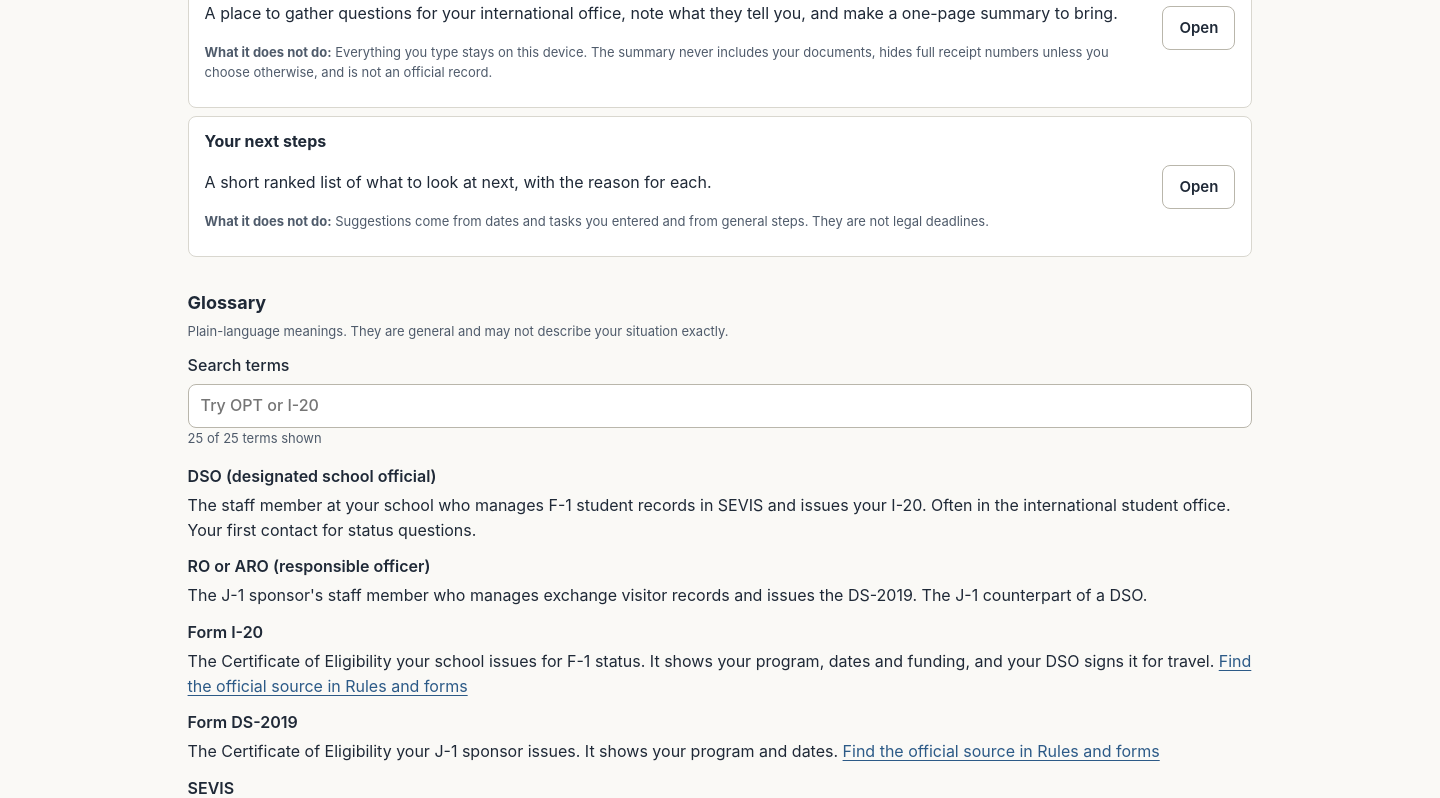
Test case: HelpPage › explains storage, lists terms and filters them
The image size is (1440, 798).
(page scrolled)
In the search field labelled "Search terms": (720,406) [188,384,1252,428], type "work authorization"
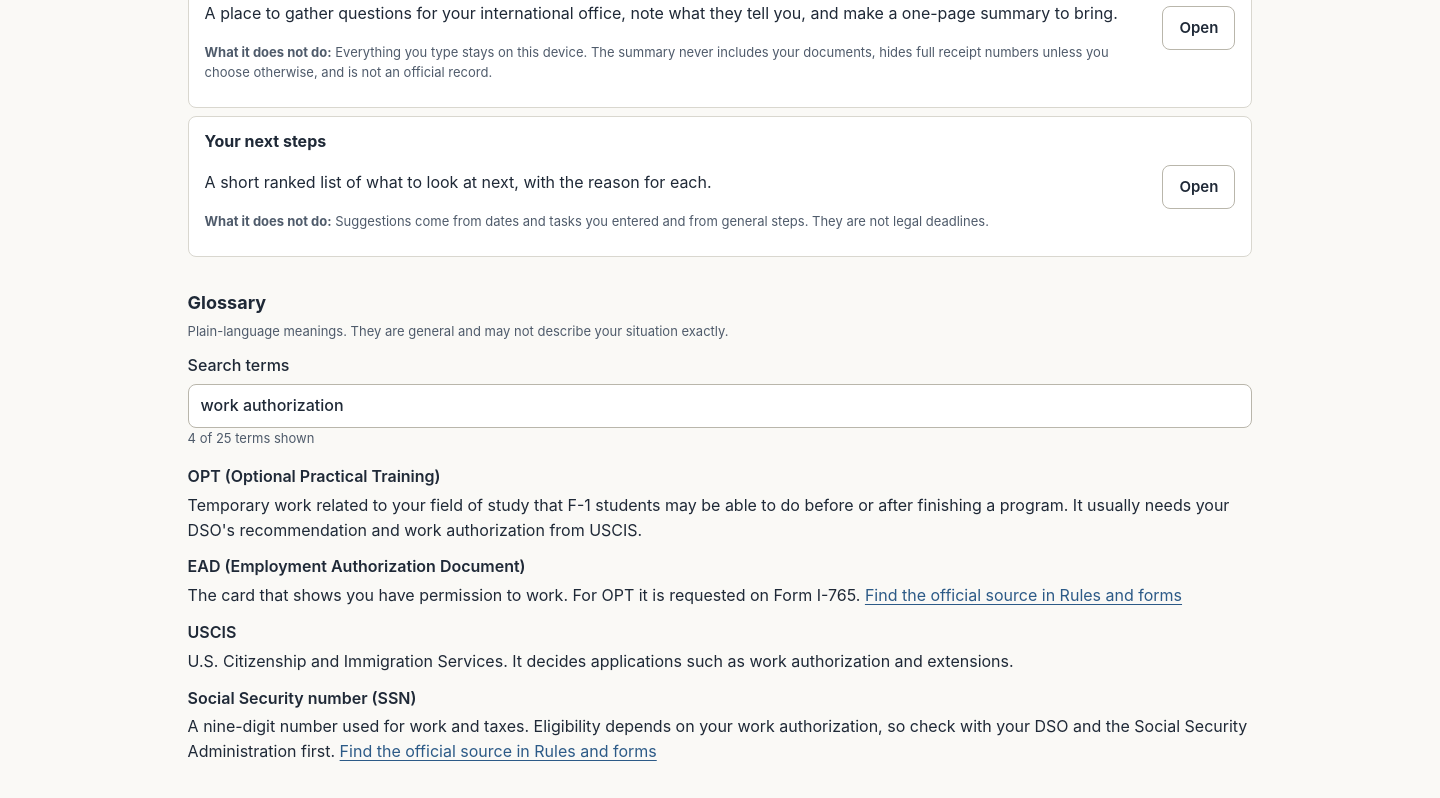
Expected: the text "EAD (Employment Authorization Document)" is shown, [188,556,526,576]
Replace the text in the search field labelled "Search terms" with "zzzz": (720,406) [188,384,1252,428]
(page scrolled)
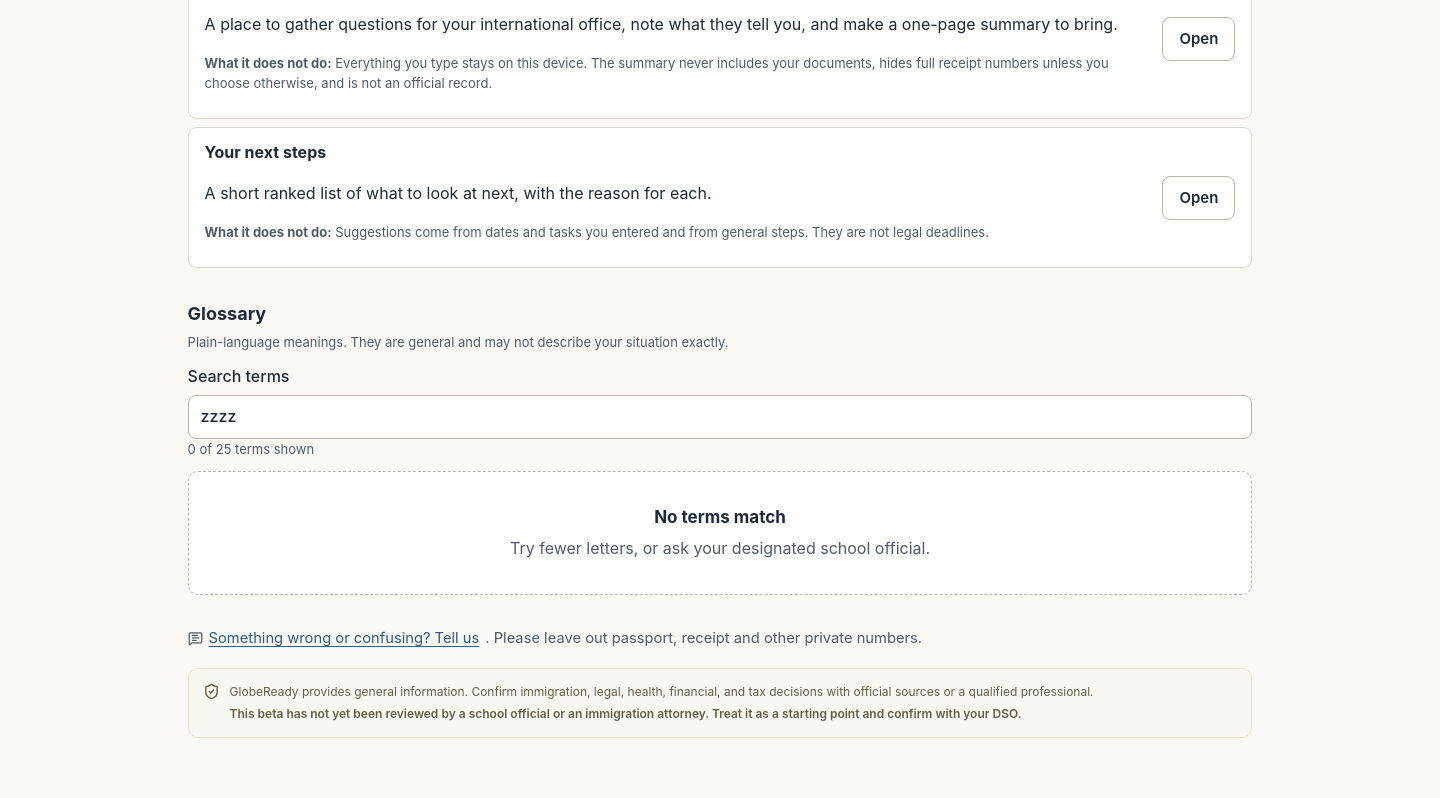
Expected: the heading "No terms match" is shown, [654,507,786,527]
